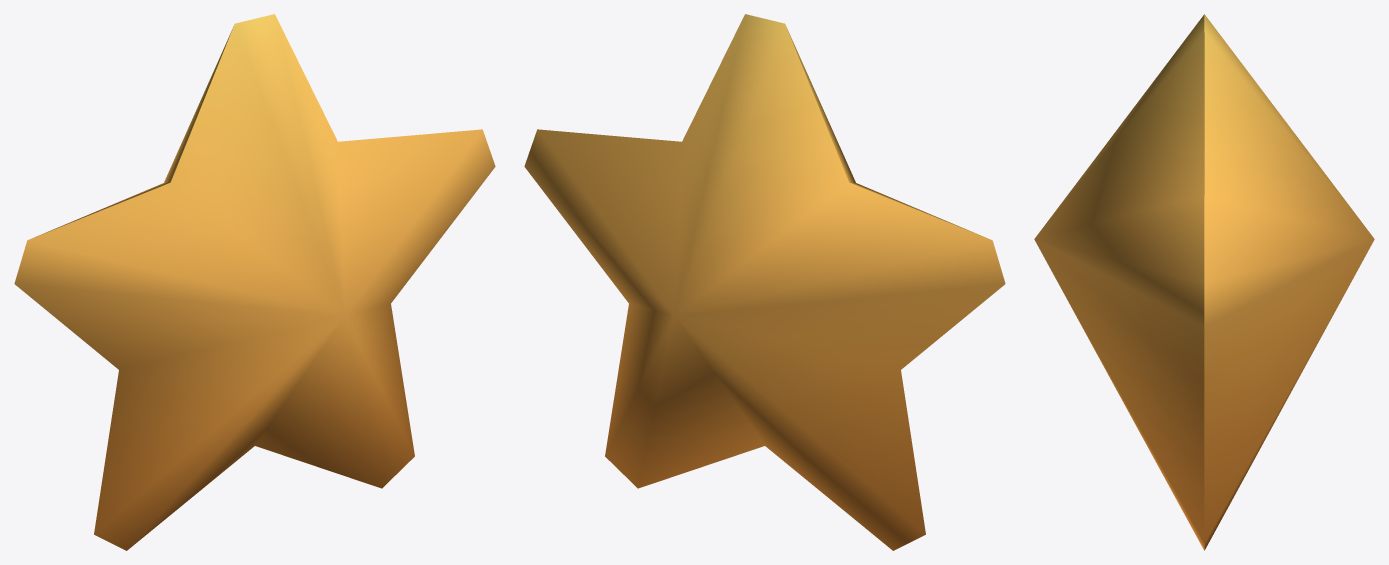
Rendered from pu-double.glb.
3 renders of one model, left to right at view 1: azimuth 30°, elevation 25°; view 2: azimuth 150°, elevation 25°; view 3: azimuth 270°, elevation 25°, orthographic. The views are drawn at different scales.
Parts seen in each view (by area): view 1: star; view 2: star; view 3: star.
Part boxes in pixels (bbox=[...]): star: bbox=[14, 14, 495, 550]; star: bbox=[524, 14, 1005, 550]; star: bbox=[1034, 14, 1374, 550].
Bounding box in the file's own units: 0.365 × 0.363 × 0.2386.
1 material, 1 textured.
